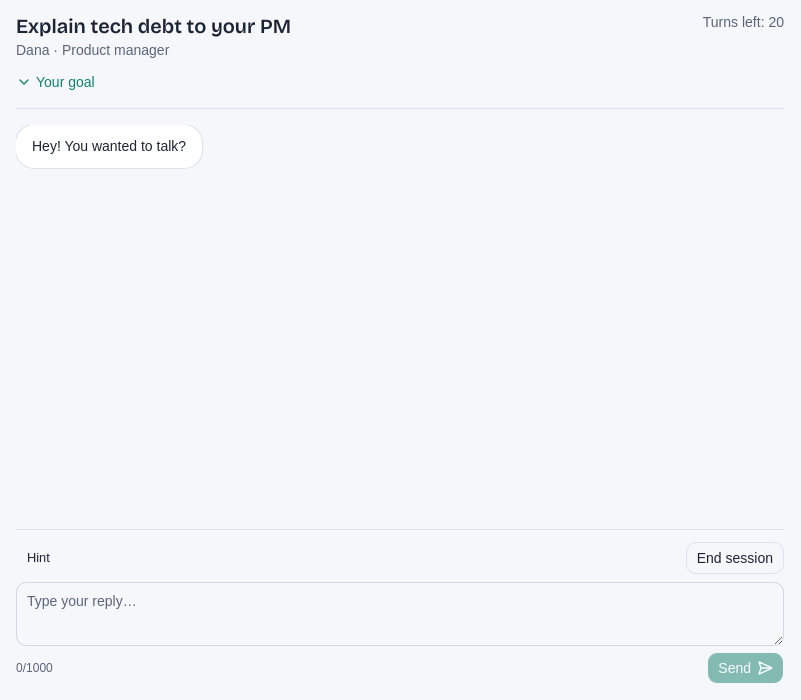
Test: SessionView › shows Try again on a stream error, and resends the same content
Type "Hi Dana" into the text box named "Message" at (400, 614), box [16, 582, 784, 646]
Then press Enter
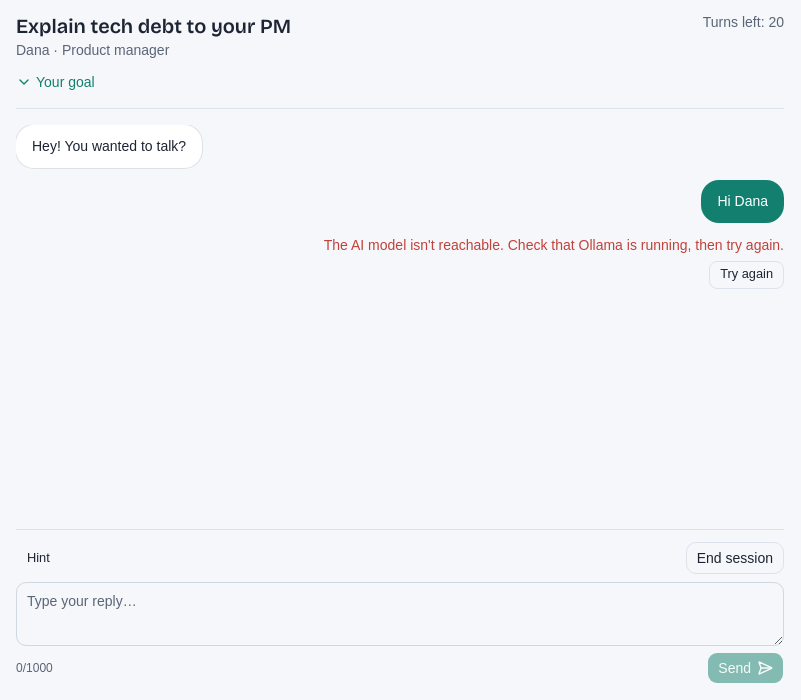
Click the button "Try again" at (747, 274), box [709, 260, 784, 288]
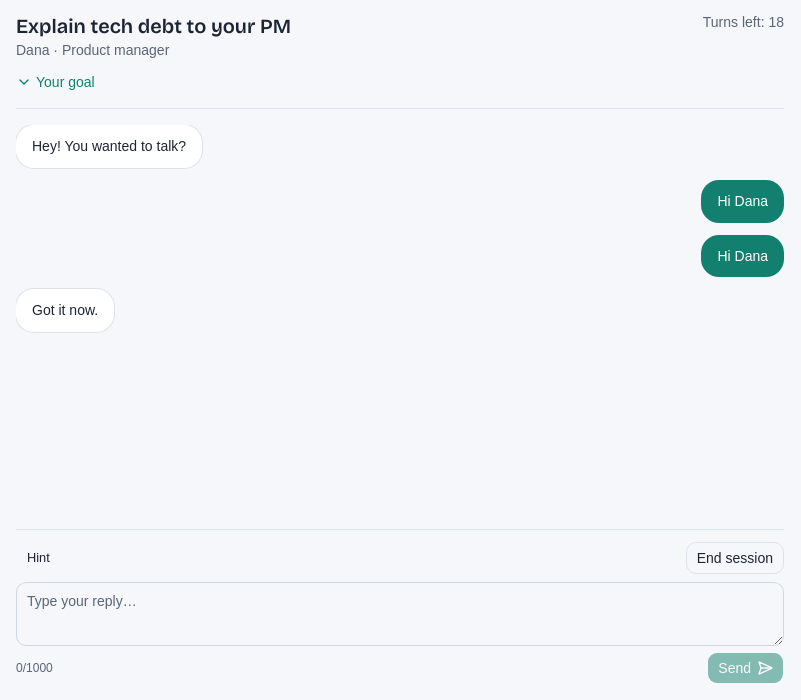
Check: the text "Got it now." is shown, box [16, 289, 114, 332]
